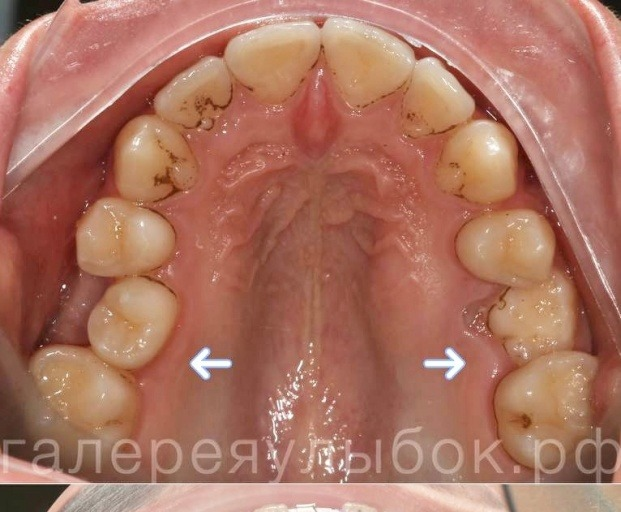UL1BC_healthy: (451, 207, 555, 286)
UL1M_decay: (498, 358, 599, 436)
UL2BC_decay: (487, 281, 581, 355)
ULCI_decay: (324, 16, 411, 113)
ULC_decay: (436, 122, 517, 205)
ULLI_decay: (403, 59, 473, 134)
UR1BC_decay: (79, 203, 175, 269)
UR1M_healthy: (38, 345, 139, 434)
UR2BC_decay: (87, 283, 181, 362)
URCI_decay: (227, 23, 321, 102)
URC_decay: (111, 119, 201, 203)
URLI_decay: (157, 63, 238, 129)
